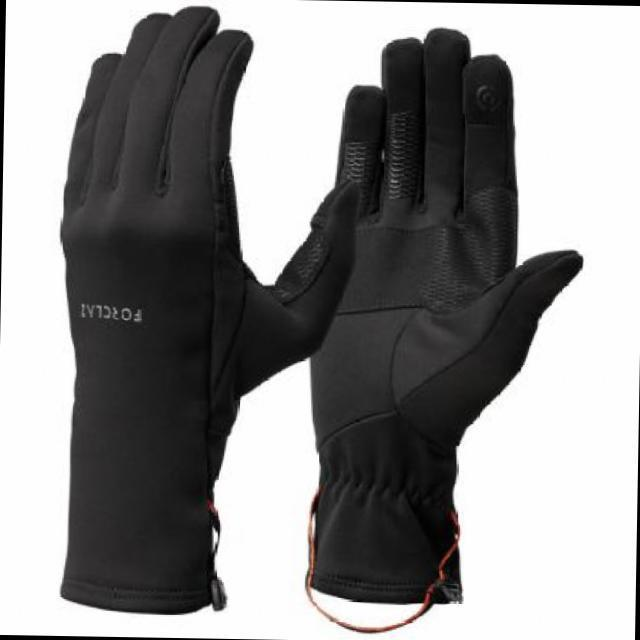Gloves: (52, 12, 330, 608), (307, 20, 581, 610)
